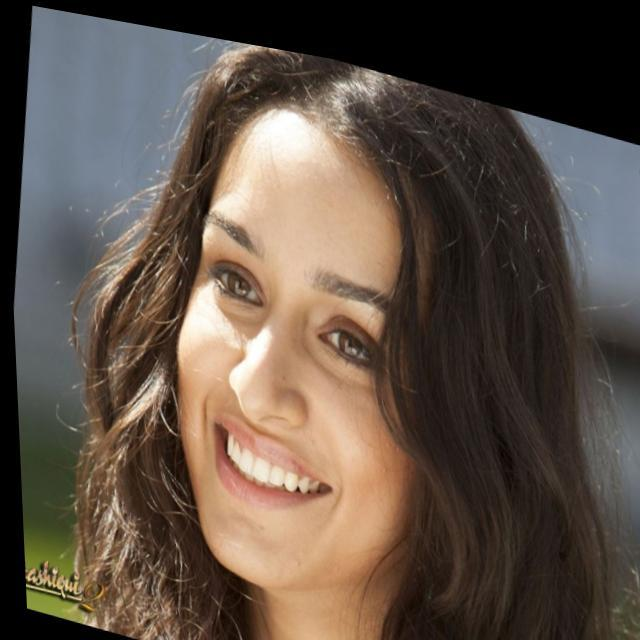Nonhelmet: (122, 57, 532, 590)
